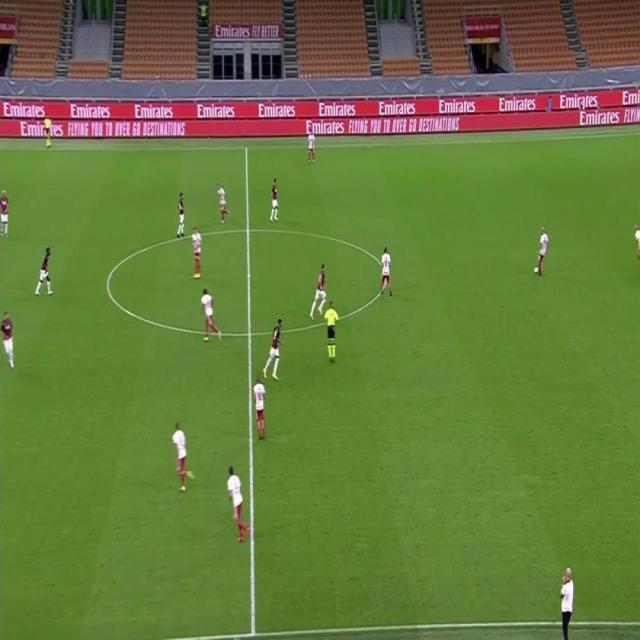ball: (533, 265, 539, 274)
player: (227, 466, 249, 543), (172, 421, 193, 494), (262, 315, 284, 384), (199, 286, 224, 343), (308, 261, 328, 320), (252, 374, 268, 442), (33, 244, 53, 298), (1, 309, 16, 371), (533, 225, 550, 276), (379, 244, 394, 299), (191, 225, 203, 280), (0, 186, 11, 239), (217, 181, 231, 222), (175, 190, 186, 238), (269, 176, 280, 223), (306, 126, 316, 165)
referee: (325, 298, 339, 365), (44, 112, 53, 148)
